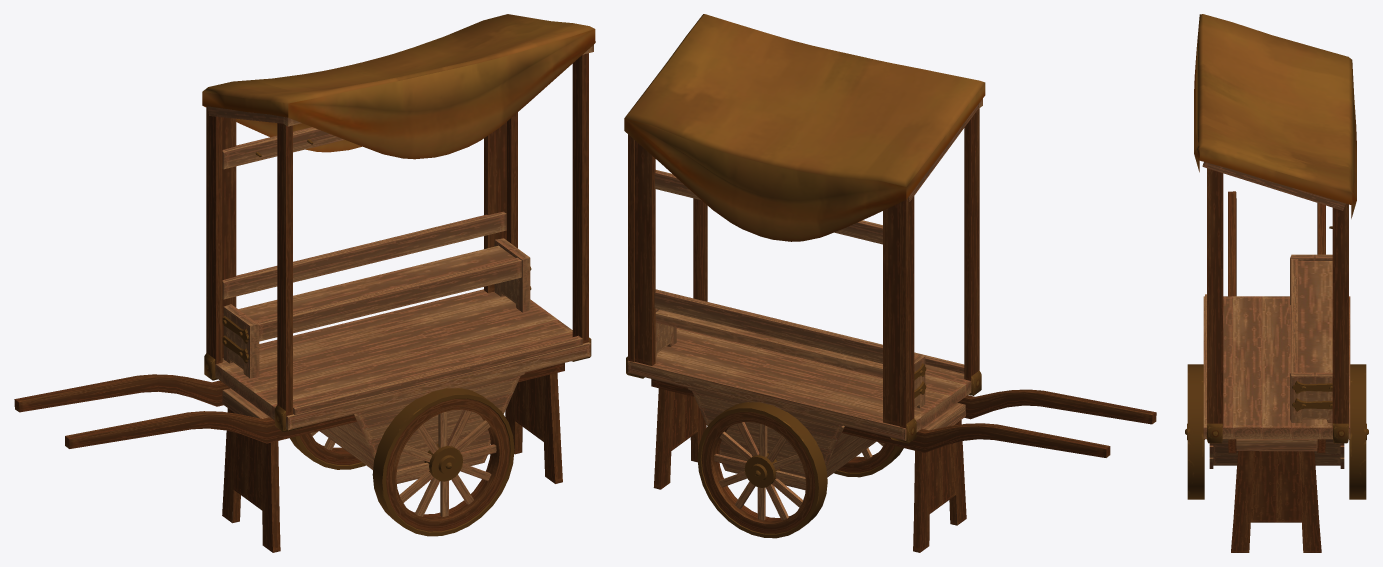
Rendered from Stall_Cart_Empty.gltf.
The picture shows the model from 3 angles, left to right: view 1: azimuth 30°, elevation 25°; view 2: azimuth 150°, elevation 25°; view 3: azimuth 270°, elevation 25°; orthographic projection. The views are drawn at different scales.
Visible parts, largest first — view 1: Stall_Cart_Empty; view 2: Stall_Cart_Empty; view 3: Stall_Cart_Empty.
Boxes of the visible parts, x1,y1,x2,y2 form: Stall_Cart_Empty: (14, 14, 595, 552); Stall_Cart_Empty: (624, 14, 1156, 552); Stall_Cart_Empty: (1185, 14, 1368, 552).
Bounding box in the file's own units: 3.02 × 2.63 × 1.06.
3 materials, 3 textured.
